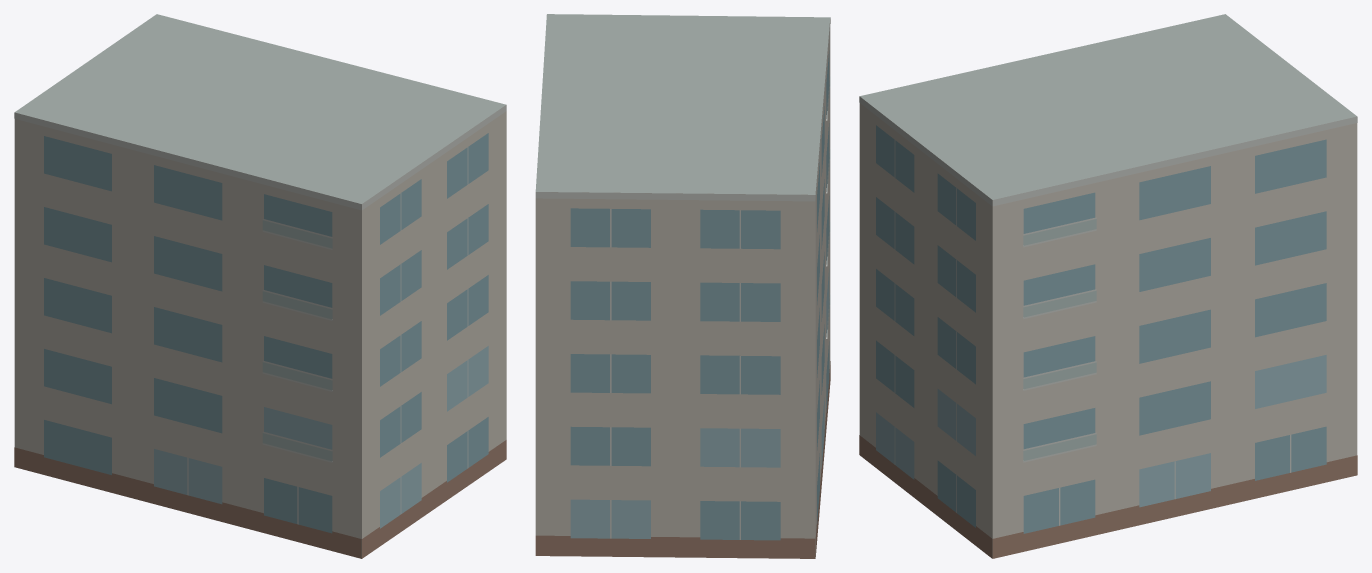
The model's file is survey-upis-32878351.glb.
The picture shows the model from 3 angles, left to right: view 1: azimuth 30°, elevation 25°; view 2: azimuth 150°, elevation 25°; view 3: azimuth 270°, elevation 25°; orthographic projection. The views are drawn at different scales.
Visible parts, largest first — view 1: survey-upis-32878351.tmp; view 2: survey-upis-32878351.tmp; view 3: survey-upis-32878351.tmp.
Part boxes in pixels (left/top/right/bottom): survey-upis-32878351.tmp: left=14, top=14, right=506, bottom=558; survey-upis-32878351.tmp: left=535, top=14, right=830, bottom=558; survey-upis-32878351.tmp: left=859, top=14, right=1357, bottom=558.
Size of the model in its own units: 15.13 by 13.6 by 17.11.
